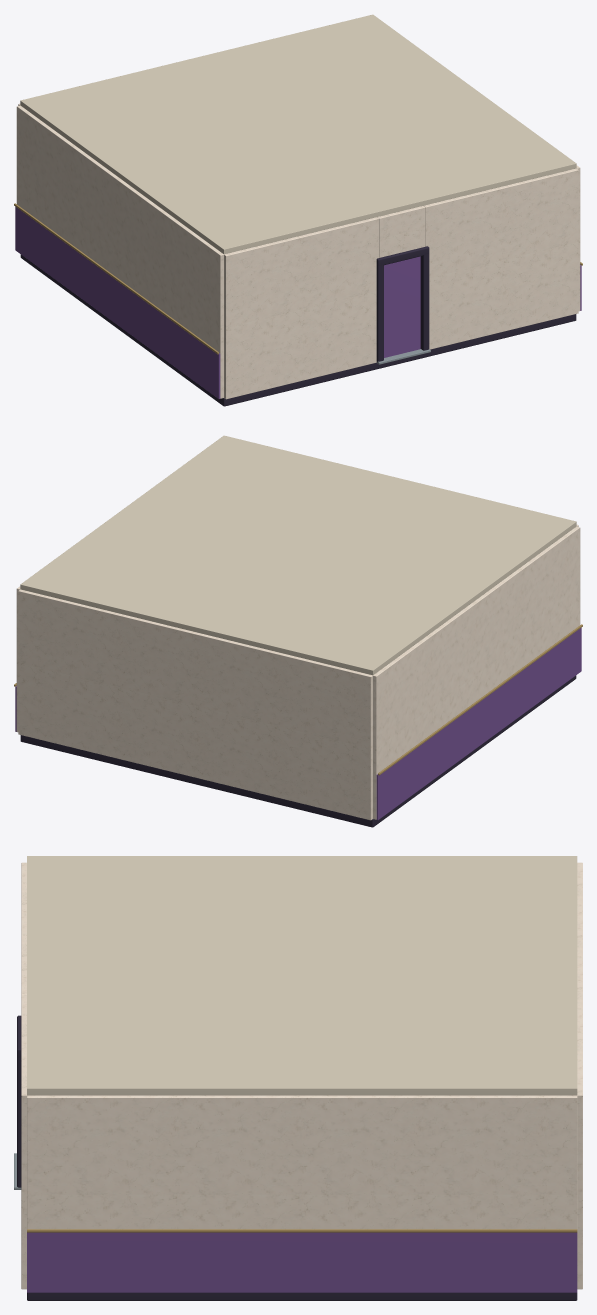
The model's file is mirror_waiting.glb.
3 renders of one model, top to bottom at view 1: azimuth 30°, elevation 25°; view 2: azimuth 150°, elevation 25°; view 3: azimuth 270°, elevation 25°, orthographic. The views are drawn at different scales.
Parts seen in each view (by area): view 1: ceiling.019, wall.050, wall.049, wall.052, lower_panel.051, front.022_leaf, mirror_waiting_floor, door_lintel.012, front.022_jamb, panel_rail.051, front.022_jamb.001; view 2: ceiling.019, wall.051, wall.052, lower_panel.051, mirror_waiting_floor, panel_rail.051; view 3: ceiling.019, wall.053, lower_panel.052, mirror_waiting_floor, wall.051, panel_rail.052, wall.049, front.022_jamb, wall.050.
Part boxes in pixels (bbox=[...]): ceiling.019: bbox=[20, 14, 576, 254]; wall.050: bbox=[224, 217, 378, 399]; wall.049: bbox=[423, 168, 578, 349]; wall.052: bbox=[16, 105, 223, 398]; lower_panel.051: bbox=[15, 206, 220, 398]; front.022_leaf: bbox=[384, 256, 420, 357]; mirror_waiting_floor: bbox=[20, 254, 576, 406]; door_lintel.012: bbox=[377, 206, 425, 257]; front.022_jamb: bbox=[420, 251, 429, 350]; panel_rail.051: bbox=[14, 203, 218, 354]; front.022_jamb.001: bbox=[376, 263, 383, 362]; ceiling.019: bbox=[20, 435, 576, 675]; wall.051: bbox=[18, 589, 372, 820]; wall.052: bbox=[373, 526, 580, 819]; lower_panel.051: bbox=[376, 627, 581, 819]; mirror_waiting_floor: bbox=[20, 675, 576, 827]; panel_rail.051: bbox=[378, 624, 582, 775]; ceiling.019: bbox=[27, 856, 577, 1095]; wall.053: bbox=[27, 1095, 577, 1229]; lower_panel.052: bbox=[27, 1232, 577, 1292]; mirror_waiting_floor: bbox=[27, 1292, 577, 1300]; wall.051: bbox=[577, 862, 582, 1289]; panel_rail.052: bbox=[27, 1229, 577, 1232]; wall.049: bbox=[21, 994, 26, 1289]; front.022_jamb: bbox=[17, 1054, 21, 1187]; wall.050: bbox=[21, 862, 26, 963].
Size of the model in its own units: 9.32 by 3.84 by 9.3.
Materials: 11 (3 with a texture image).
